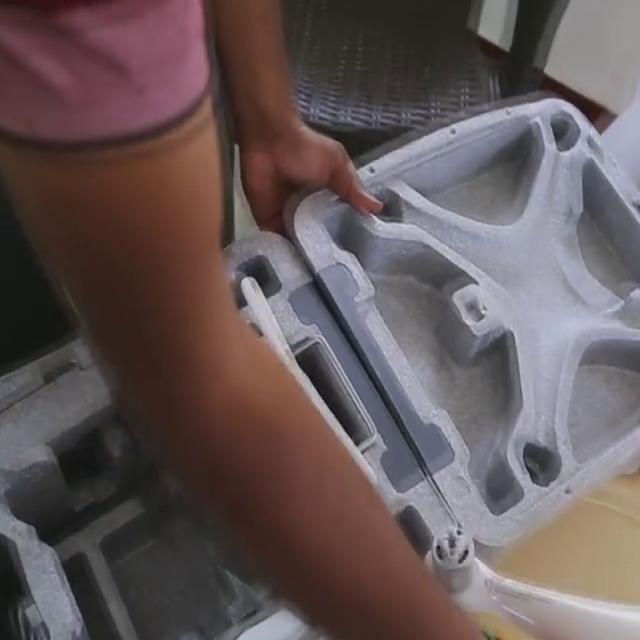drone: (392, 363, 640, 640)
